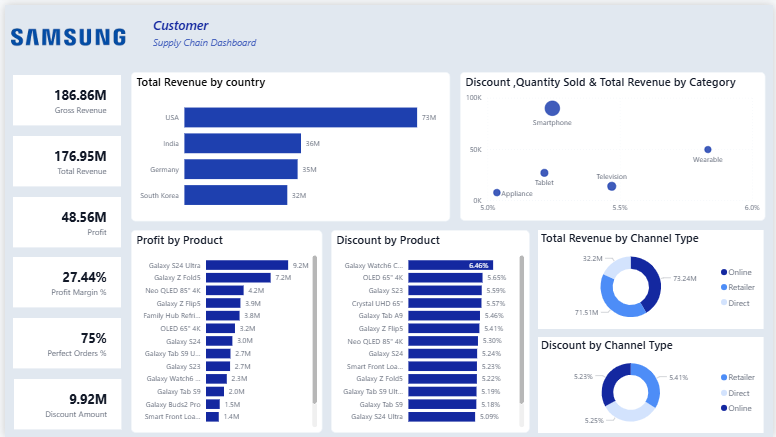

The page's visual inventory and layout, read from the dashboard file:
{"tool":"powerbi","page":{"name":"Customer","canvas":[1280,720],"ordinal":5},"visuals":[{"type":"cardVisual","fields":{"Data":["MeasuresTable.Total_Revenue"]},"box":[8.3,213,190,94],"z":0},{"type":"cardVisual","fields":{"Data":["MeasuresTable.Profit"]},"box":[8.3,314.3,190,94],"z":1000},{"type":"cardVisual","fields":{"Data":["MeasuresTable.Profit Margin %"]},"box":[8.3,415.6,190,94],"z":2000},{"type":"cardVisual","fields":{"Data":["MeasuresTable.Perfect_Orders %"]},"box":[8.3,516.9,190,94],"z":3000},{"type":"cardVisual","fields":{"Data":["Sum(fact_sales.discount_amount)"]},"box":[10.1,618.2,189.8,94.1],"z":4000},{"type":"cardVisual","fields":{"Data":["Sum(fact_sales.gross_revenue)"]},"box":[8.3,111.7,190,94],"z":5000},{"type":"donutChart","title":"Total Revenue by Channel Type","fields":{"Y":["MeasuresTable.Total_Revenue"],"Category":["dim_customer.channel_type"]},"box":[888.6,374.6,376.3,164.6],"z":6000},{"type":"clusteredBarChart","title":"Profit by Product","fields":{"Y":["MeasuresTable.Profit"],"Category":["dim_product.product_name"]},"box":[210,374.6,319.2,337.6],"z":7000},{"type":"clusteredBarChart","title":"Total Revenue by country","fields":{"Category":["dim_customer.country"],"Y":["MeasuresTable.Total_Revenue"]},"box":[209.7,111.4,532.2,249.3],"z":8000},{"type":"scatterChart","title":"Discount ,Quantity Sold & Total Revenue by Category","fields":{"X":["MeasuresTable.Discount %"],"Y":["fact_sales.quantity_sold"],"Category":["dim_product.category"],"Size":["MeasuresTable.Total_Revenue"]},"box":[758,111.4,508.8,247.8],"z":9000},{"type":"clusteredBarChart","title":"Discount by Product","fields":{"Category":["dim_product.product_name"],"Y":["MeasuresTable.Discount %"]},"box":[542.6,374.6,330.9,337.6],"z":10000},{"type":"donutChart","title":"Discount by Channel Type","fields":{"Category":["dim_customer.channel_type"],"Y":["MeasuresTable.Discount %"]},"box":[888.6,552.7,376.3,159.6],"z":11000},{"type":"shape","title":"Customer","box":[247.1,18.6,304.3,88.6],"z":12000},{"type":"image","box":[0,0,210,107.1],"z":13000}]}

Visuals, with their boxes in screenshot pixels (x1, y1, x2, y2), scaled from the page's 1280x720 canvas onto the 776x437 screenshot:
cardVisual - MeasuresTable.Total_Revenue: select_region(5, 129, 120, 186)
cardVisual - MeasuresTable.Profit: select_region(5, 191, 120, 248)
cardVisual - MeasuresTable.Profit Margin %: select_region(5, 252, 120, 309)
cardVisual - MeasuresTable.Perfect_Orders %: select_region(5, 314, 120, 371)
cardVisual - Sum(fact_sales.discount_amount): select_region(6, 375, 121, 432)
cardVisual - Sum(fact_sales.gross_revenue): select_region(5, 68, 120, 125)
"Total Revenue by Channel Type" donutChart: select_region(539, 227, 767, 327)
"Profit by Product" clusteredBarChart: select_region(127, 227, 321, 432)
"Total Revenue by country" clusteredBarChart: select_region(127, 68, 450, 219)
"Discount ,Quantity Sold & Total Revenue by Category" scatterChart: select_region(460, 68, 768, 218)
"Discount by Product" clusteredBarChart: select_region(329, 227, 530, 432)
"Discount by Channel Type" donutChart: select_region(539, 335, 767, 432)
"Customer" shape: select_region(150, 11, 334, 65)
image: select_region(0, 0, 127, 65)
